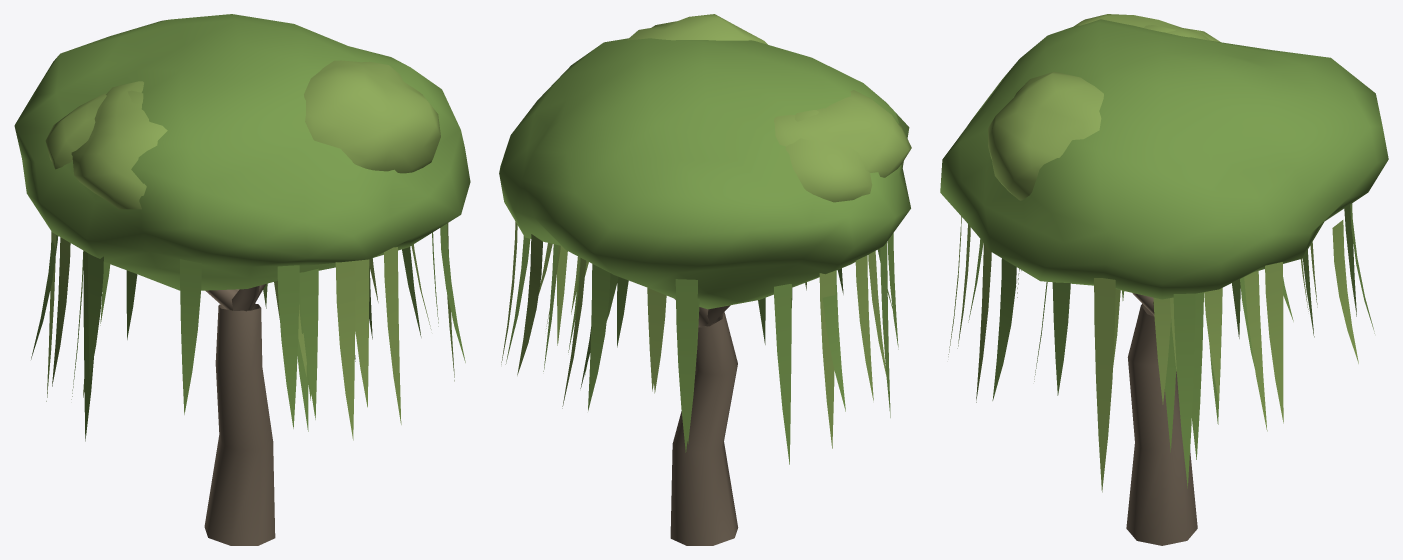
Rendered from willow_1.glb.
The picture shows the model from 3 angles, left to right: view 1: azimuth 30°, elevation 25°; view 2: azimuth 150°, elevation 25°; view 3: azimuth 270°, elevation 25°; orthographic projection. The views are drawn at different scales.
Parts seen in each view (by area): view 1: willow_1; view 2: willow_1; view 3: willow_1.
Part boxes in pixels (x1,y1,x2,y2): willow_1: (14, 14, 470, 545); willow_1: (499, 14, 911, 545); willow_1: (940, 14, 1388, 545).
Bounding box in the file's own units: 6.21 × 7.38 × 6.28.
